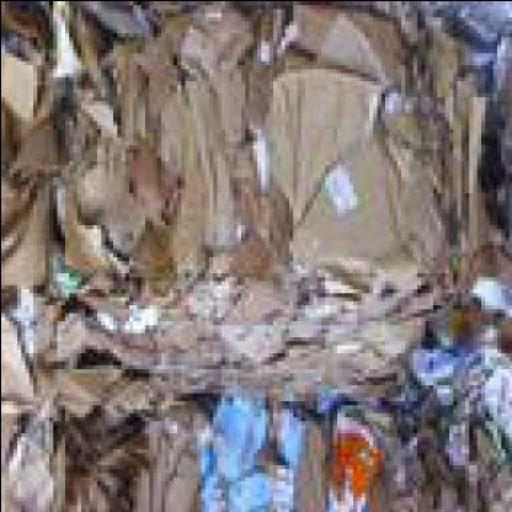cardboard: (1, 2, 510, 511), (80, 272, 432, 400), (408, 240, 508, 448), (280, 148, 440, 276), (263, 68, 384, 228), (144, 12, 196, 272), (55, 144, 144, 292), (104, 40, 156, 292), (384, 24, 464, 184), (43, 368, 121, 511), (436, 64, 484, 295), (204, 148, 284, 284), (176, 4, 252, 144), (76, 36, 164, 140), (84, 375, 150, 511), (280, 12, 404, 84), (2, 374, 66, 511), (2, 4, 60, 149), (427, 416, 508, 511), (201, 404, 273, 510), (368, 400, 433, 511), (2, 123, 44, 293), (144, 396, 206, 511), (260, 404, 325, 510), (320, 400, 373, 511), (12, 292, 84, 372), (196, 140, 240, 252), (1, 290, 36, 416), (4, 108, 56, 184), (44, 4, 80, 84)
